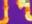Hotspot: (0, 0, 9, 23), (18, 0, 30, 9), (25, 12, 31, 21)
